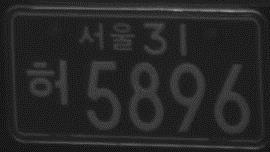1: (175, 21, 191, 59)
3: (142, 20, 168, 56)
5: (84, 59, 124, 130)
6: (213, 63, 253, 137)
8: (126, 61, 165, 132)
9: (167, 63, 207, 135)
서울_O: (78, 21, 136, 52)
허: (25, 58, 71, 106)
